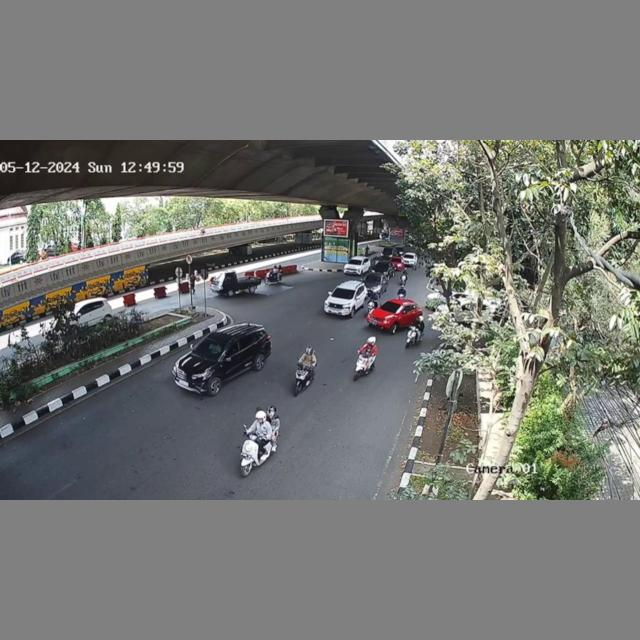windshield: (194, 338, 227, 361), (331, 287, 357, 299)
